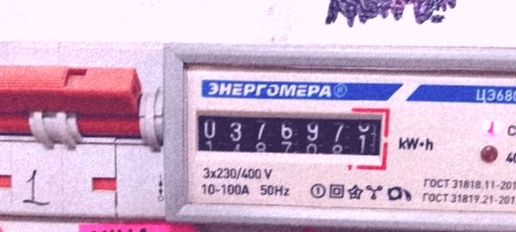0: (201, 117, 218, 138)
1: (357, 133, 368, 154)
3: (228, 119, 243, 142)
6: (280, 118, 294, 139)
7: (254, 117, 268, 141), (331, 119, 345, 143)
9: (305, 119, 319, 141)
screen: (189, 103, 393, 173)
